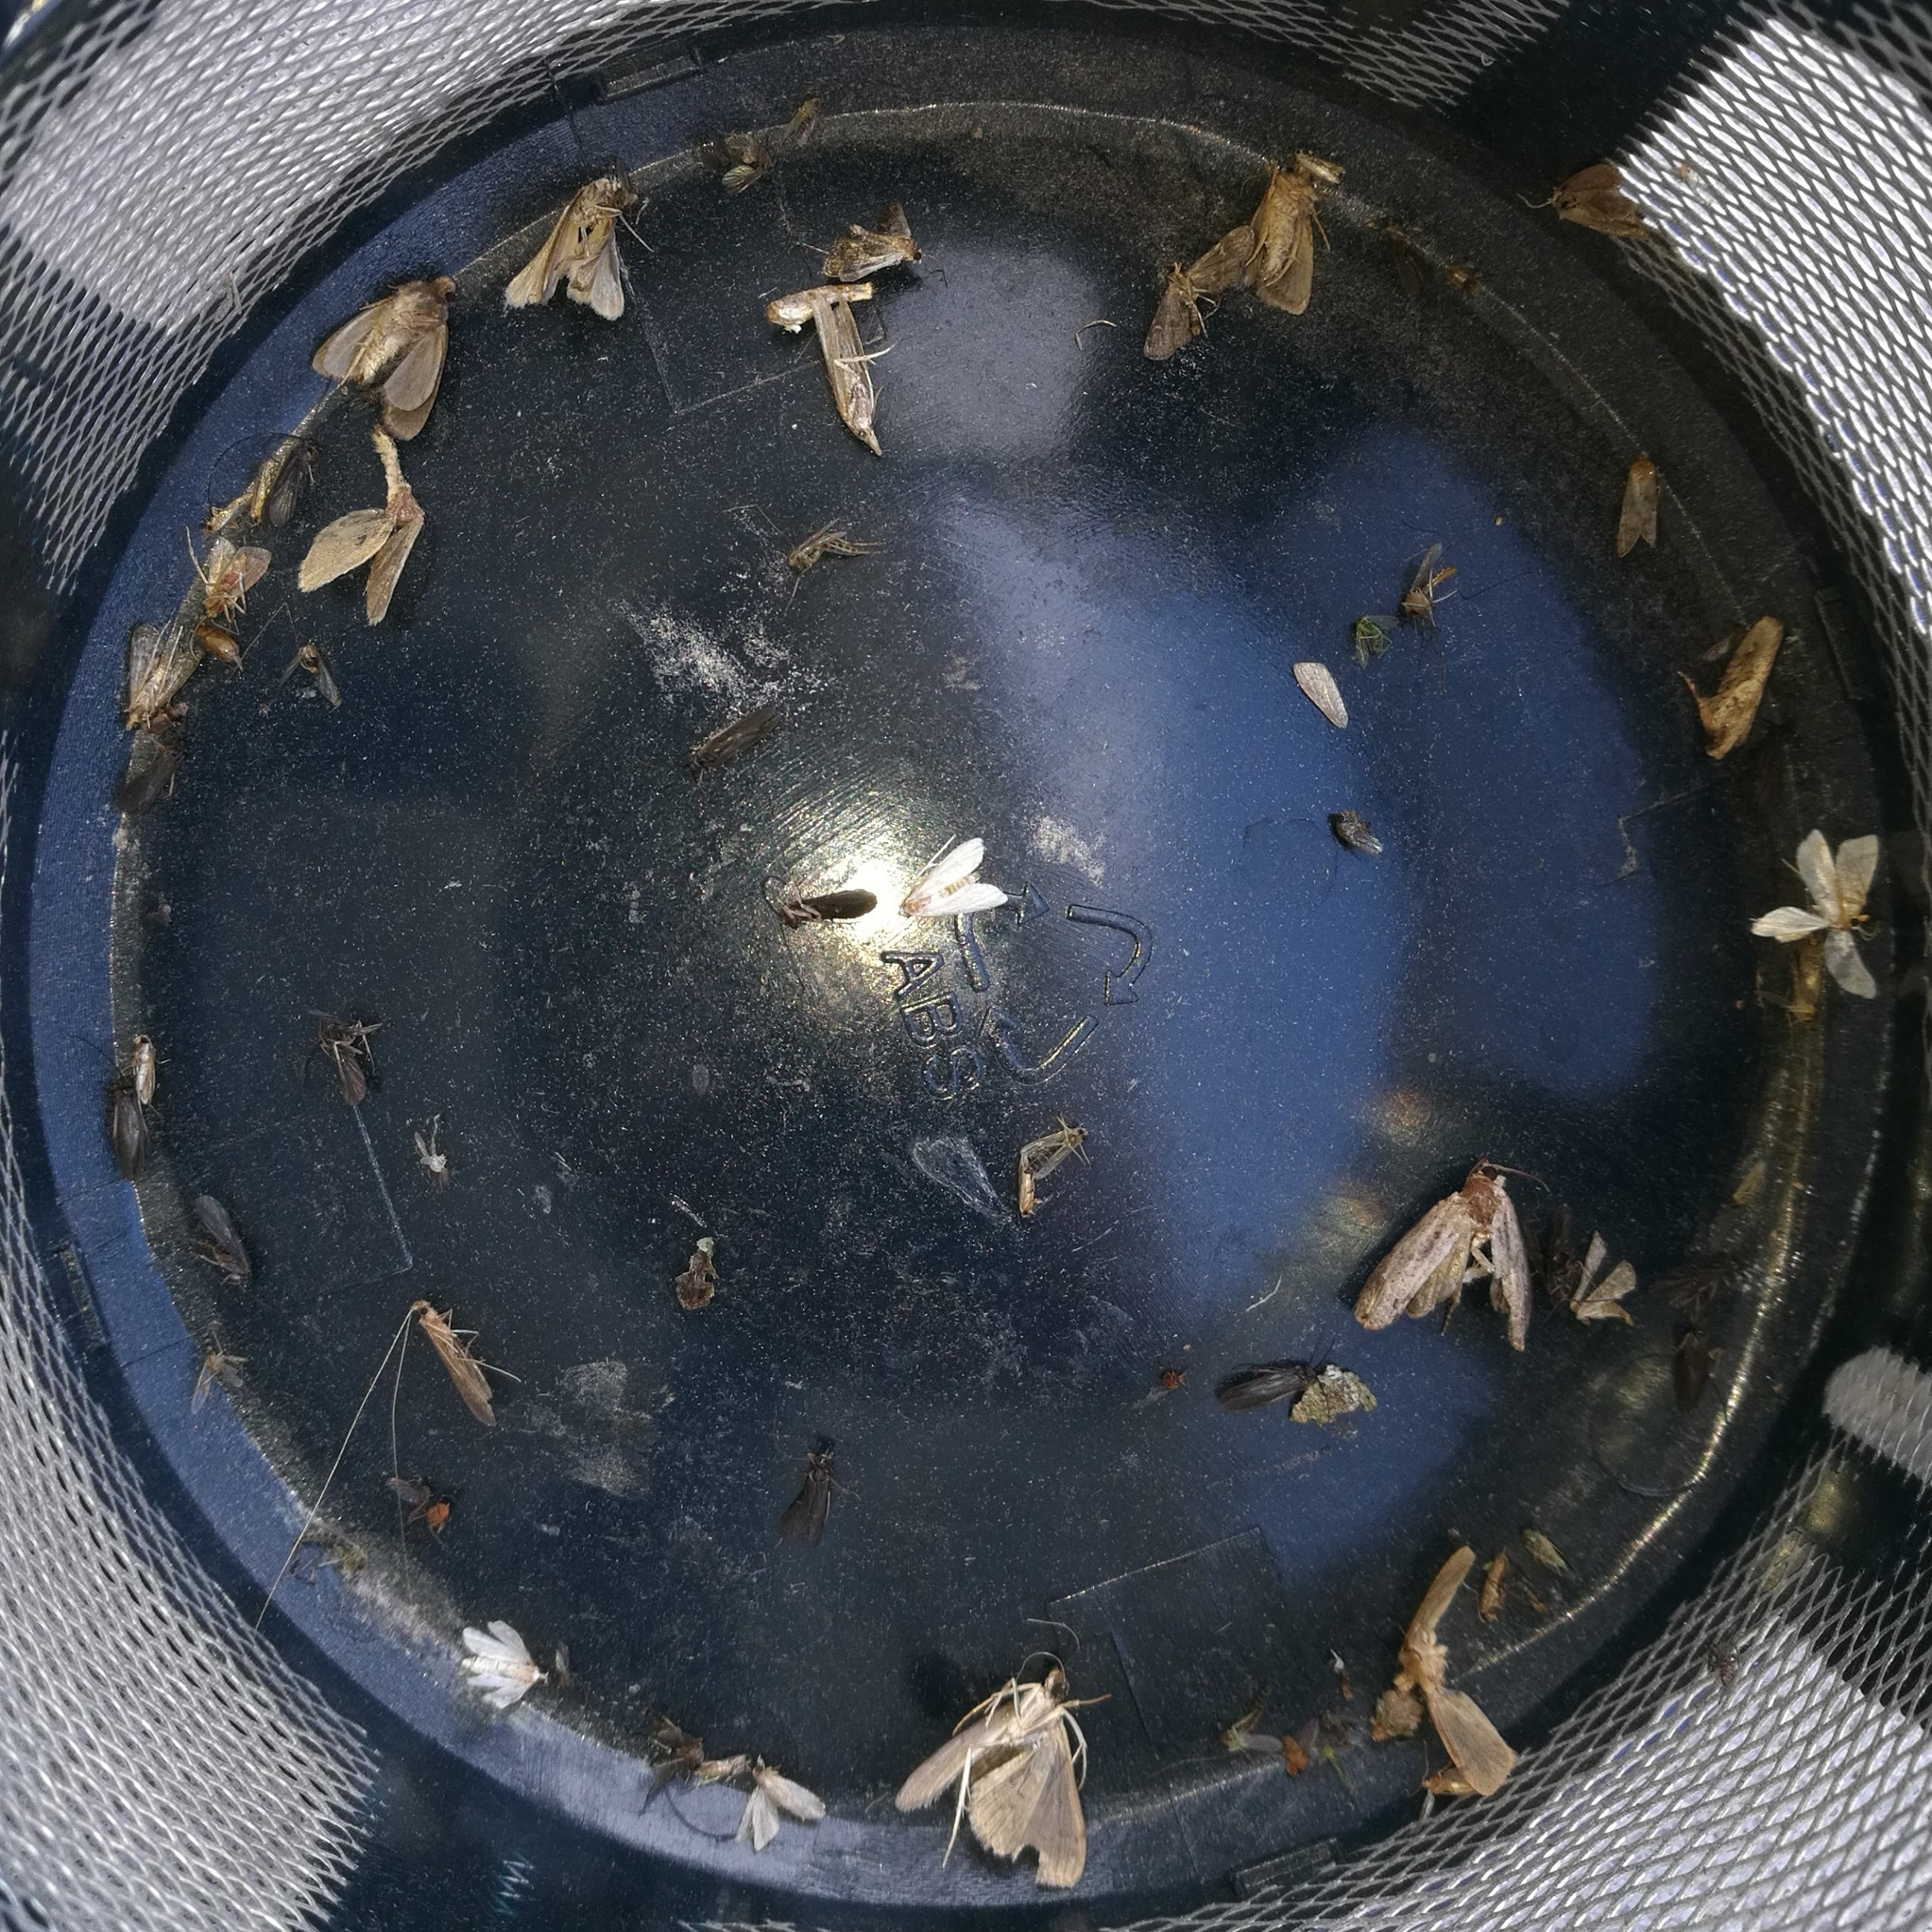mosquito: (414, 1297, 495, 1424), (817, 304, 881, 458), (835, 200, 922, 276), (191, 1194, 249, 1295), (1555, 165, 1638, 235), (205, 538, 269, 610), (1219, 1364, 1315, 1410), (1617, 451, 1656, 561), (780, 893, 872, 929), (111, 1076, 140, 1177)
moth: (897, 1661, 1085, 1891), (1355, 1171, 1532, 1350), (311, 272, 456, 441), (1247, 165, 1315, 315), (897, 833, 1003, 920), (127, 617, 202, 731)
